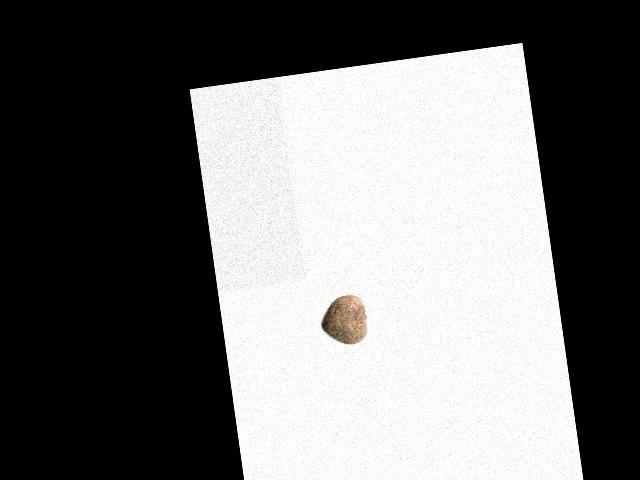beet: (318, 292, 369, 348)
